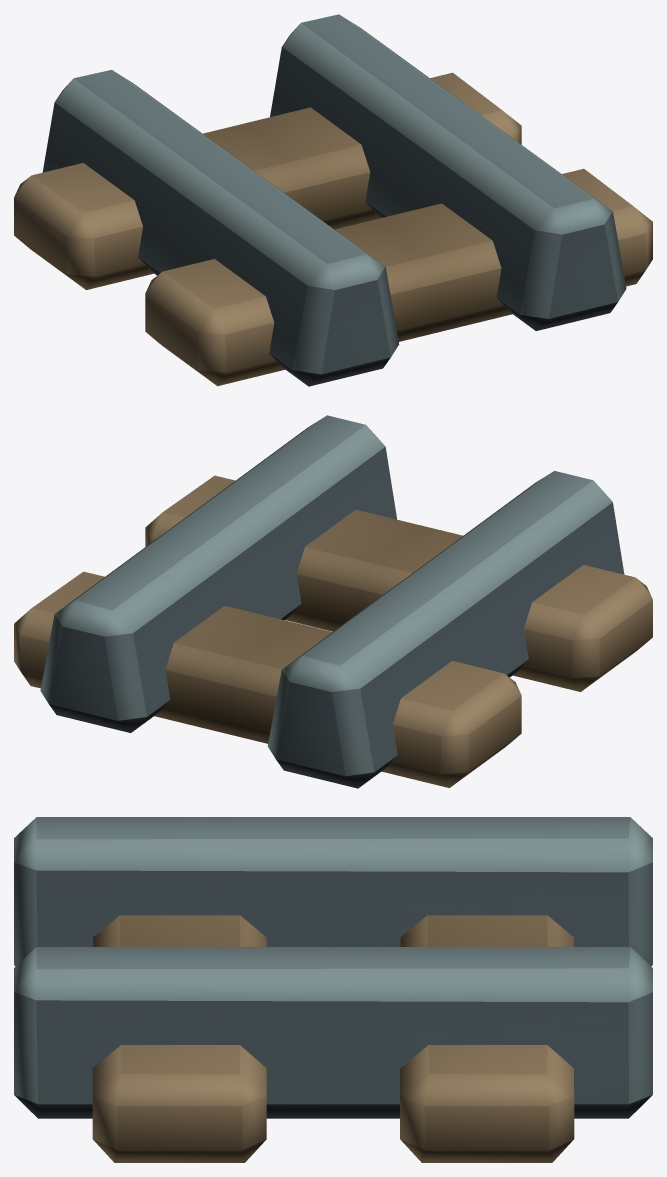
File: mine_rail_piece.fbx
3 renders of one model, top to bottom at view 1: azimuth 30°, elevation 25°; view 2: azimuth 150°, elevation 25°; view 3: azimuth 270°, elevation 25°, orthographic. The views are drawn at different scales.
Parts seen in each view (by area): view 1: mine_rail_piece; view 2: mine_rail_piece; view 3: mine_rail_piece.
Part boxes in pixels (x1=…): mine_rail_piece: x1=14, y1=14, x2=652, y2=386; mine_rail_piece: x1=14, y1=415, x2=652, y2=788; mine_rail_piece: x1=14, y1=817, x2=652, y2=1162.
Bounding box in the file's own units: 159 × 42.68 × 165.
